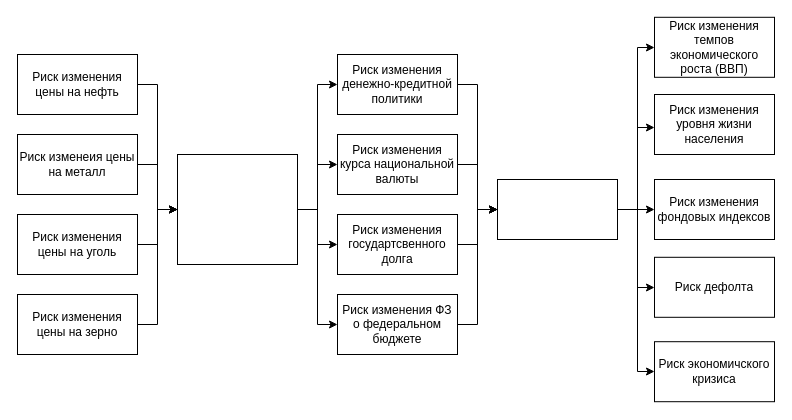
Some shapes in this 792 by 420 pixel diagram are drawn without their labels. The shapes that lost their labels are listed below. From the top down, each one's centre as x and y in pixels, then its label:
At [237,209]: "Риск дефицита / профецита консолидированного федерального бюджета".
At [557,209]: "Риск изменения темпов инфляции".
